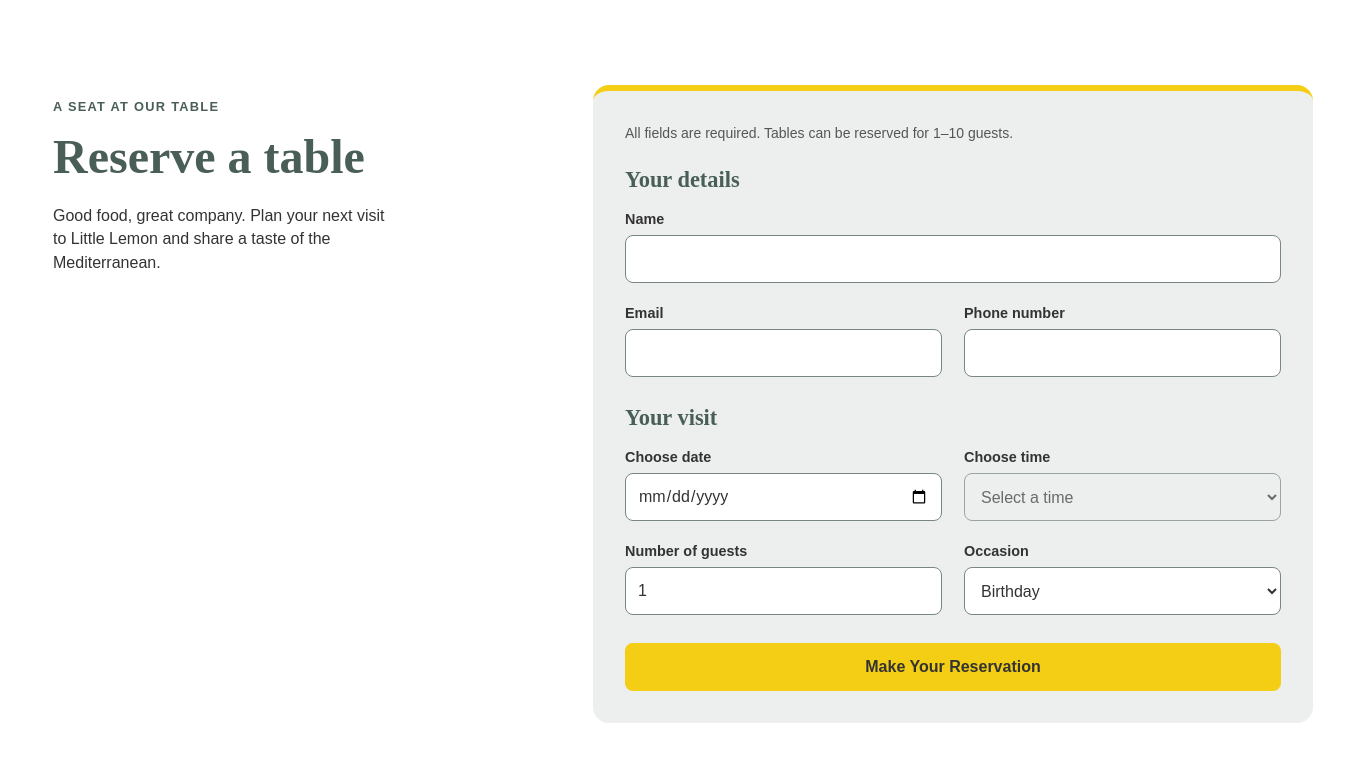
Scenario: shows an empty availability message
Type "Alex Rivera" into the field labelled "Name" at (953, 259), box [625, 235, 1281, 283]
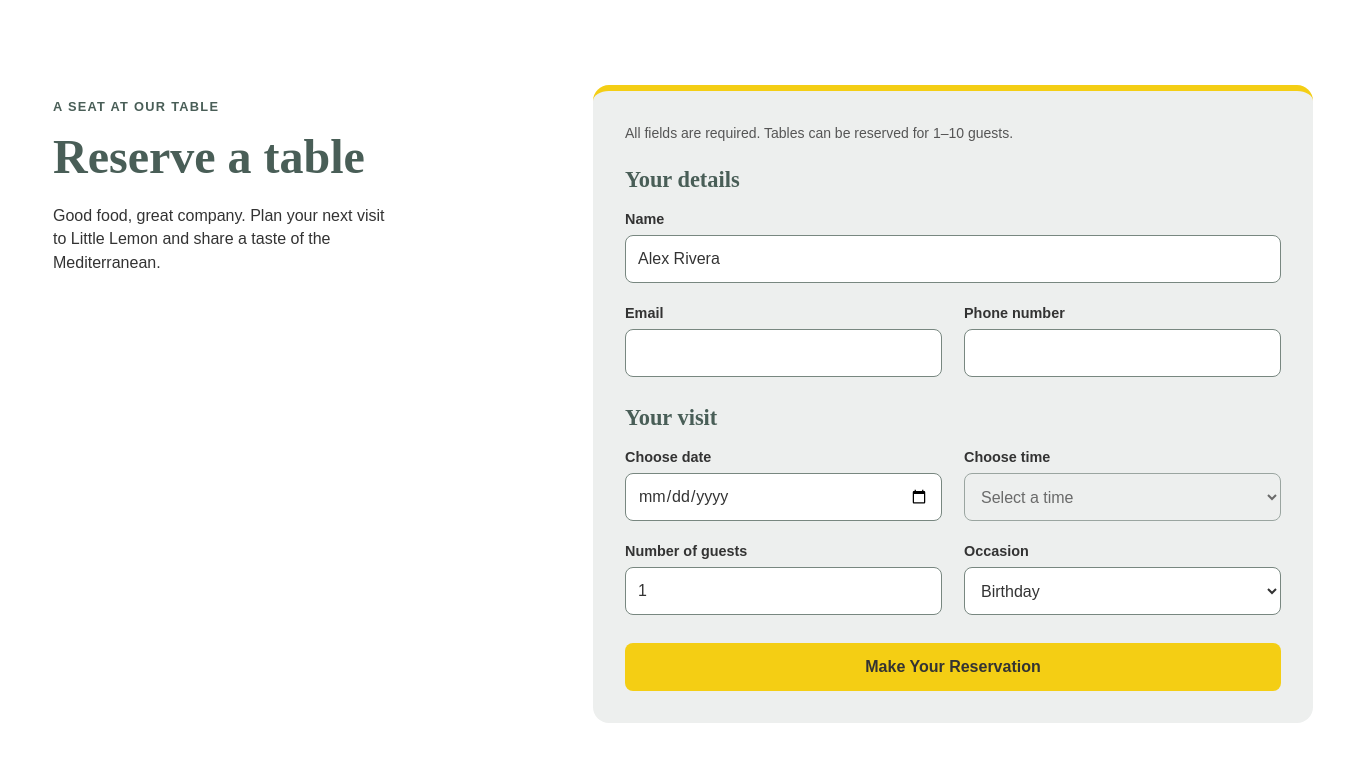
Type "alex@example.com" into the field labelled "Email" at (784, 353), box [625, 329, 942, 377]
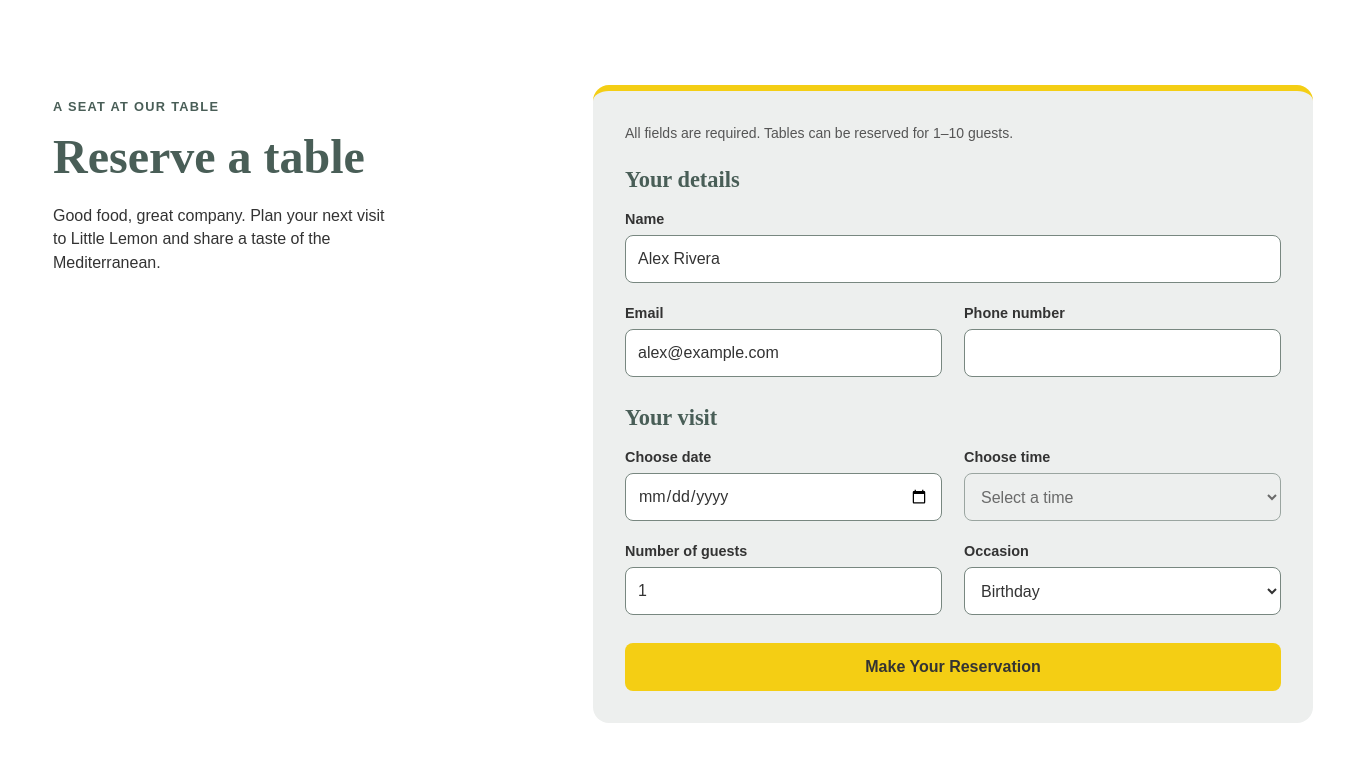
Type "+1 (312) 555-0142" into the field labelled "Phone number" at (1122, 353), box [964, 329, 1281, 377]
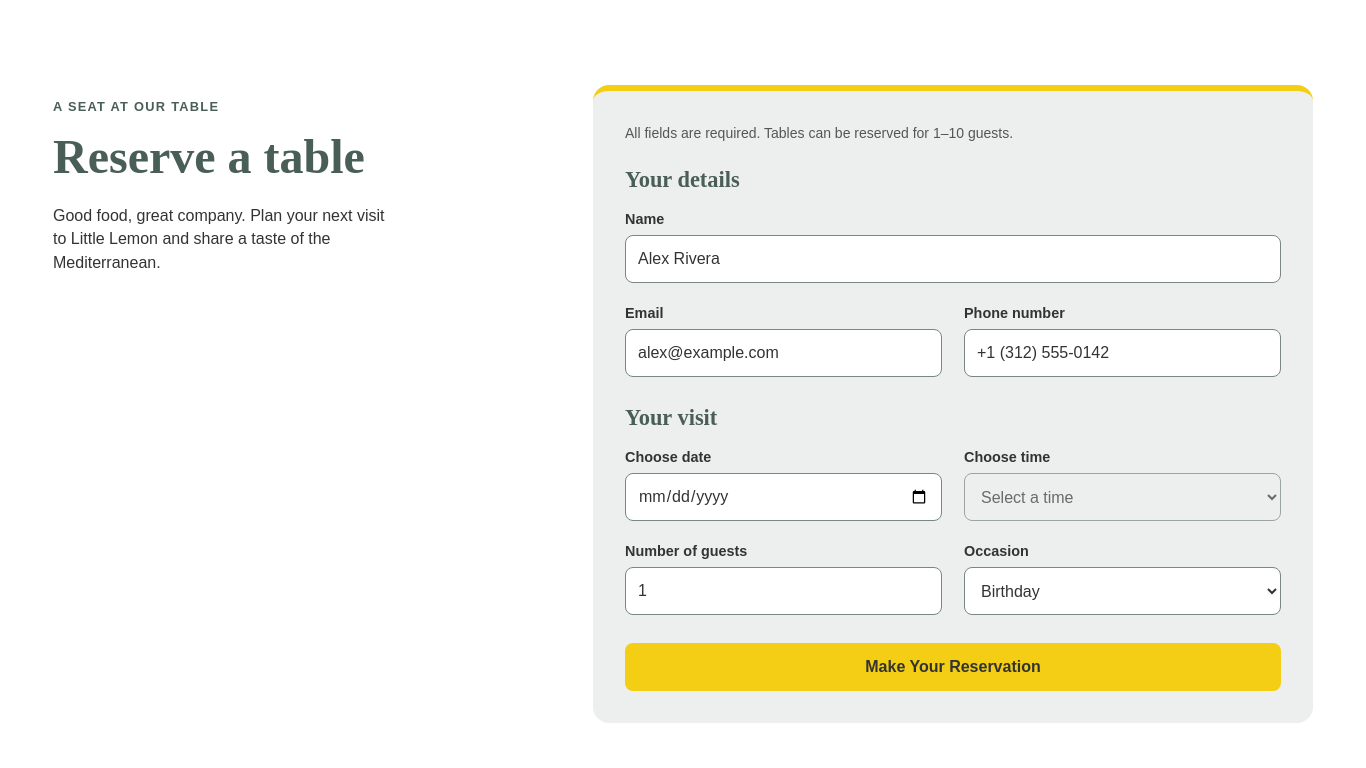
Type "2026-10-15" into the date field labelled "Choose date" at (784, 497), box [625, 473, 942, 521]
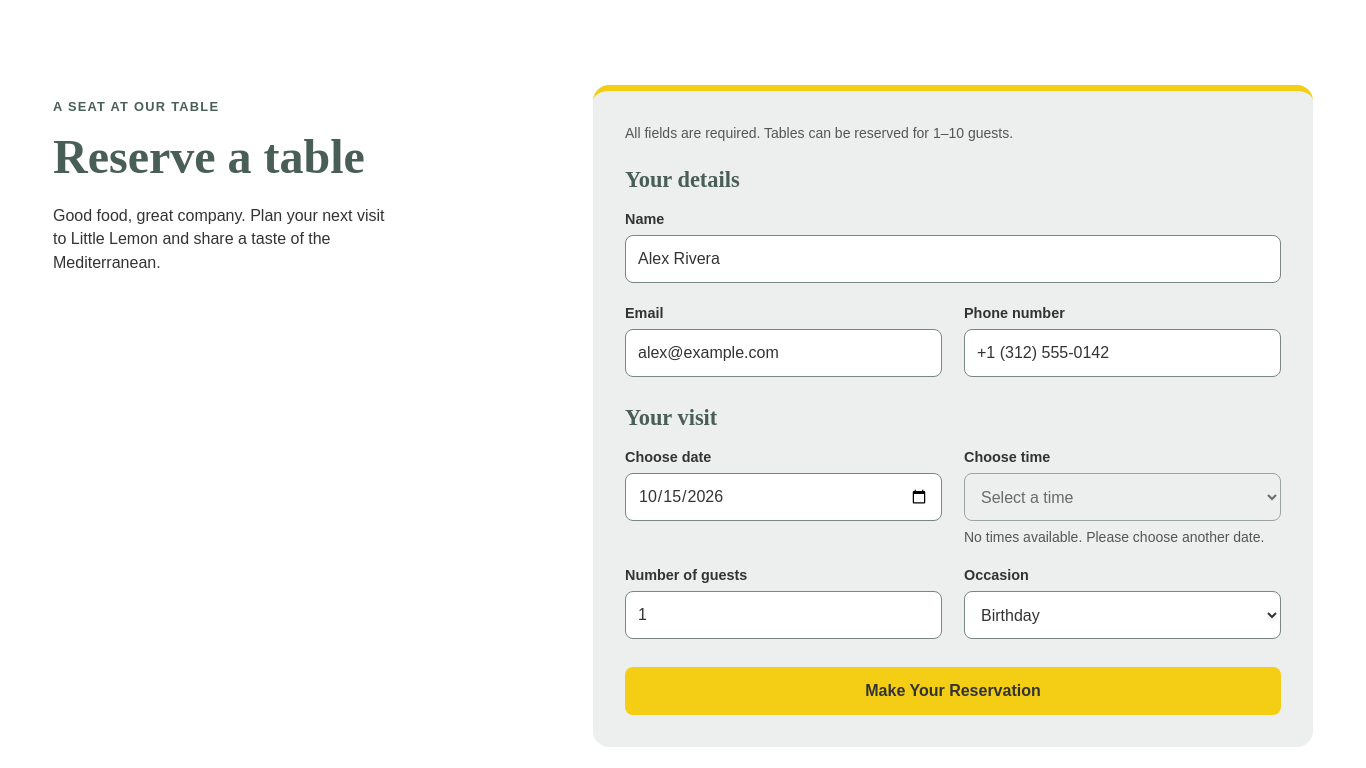
Expected: the dropdown labelled "Choose time" is disabled, [964, 473, 1281, 521]
Now the message shows "No times available", box [964, 529, 1264, 545]
